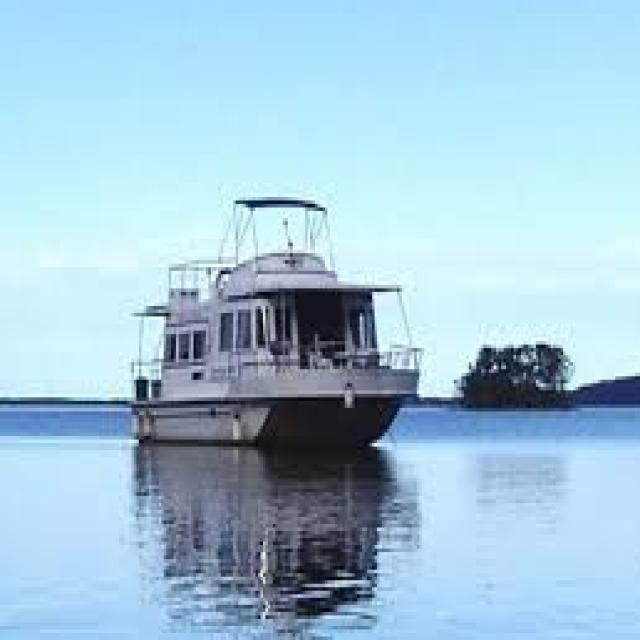passenger ship: (120, 134, 428, 432)
